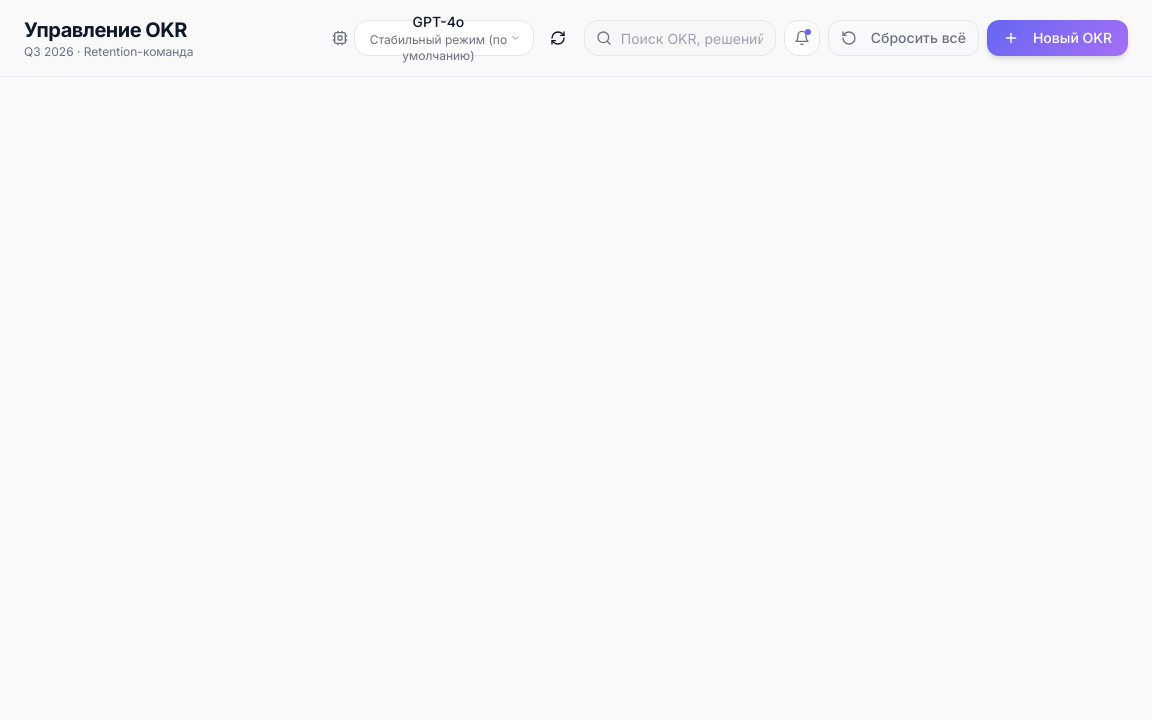
it: AppHeader — Reset all › открывает подтверждающий диалог и вызывает onResetAll только после подтверждения
Later steps or results of the test are not shown.
Click the button with aria-label "Сбросить все данные". click: {"x": 903, "y": 38}
box: [828,20,979,56]
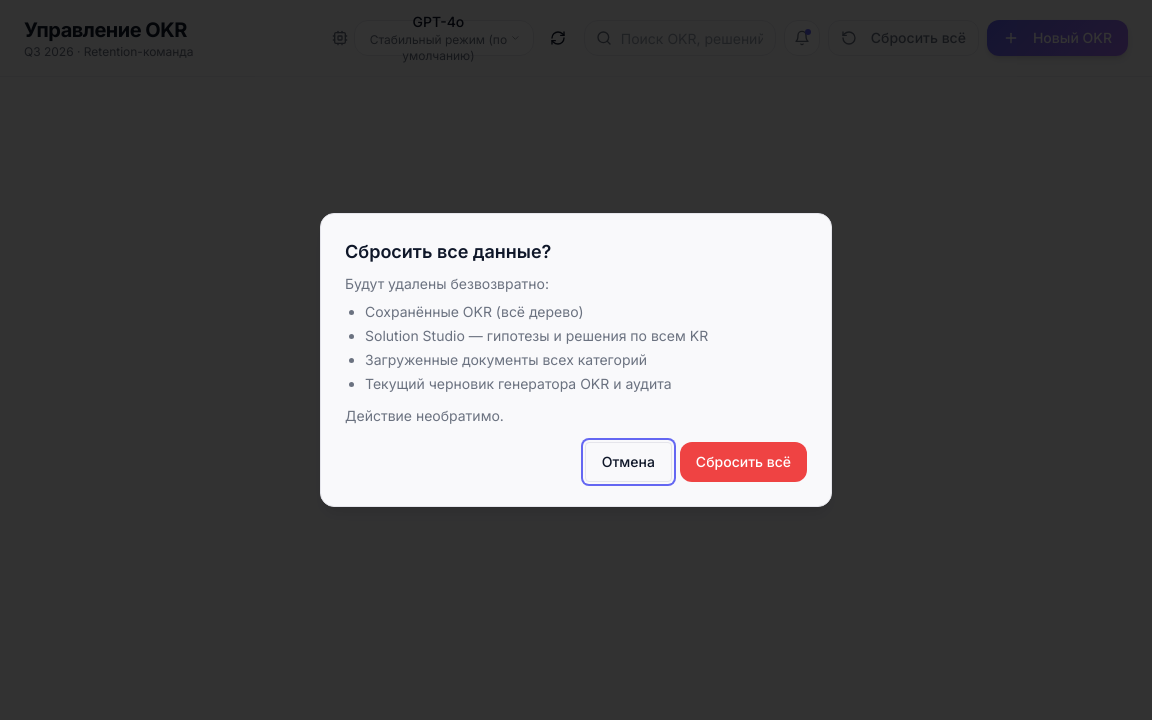
expect the list item "Сохранённые OKR (всё дерево)" is shown: met, box [365,303,584,320]
expect the list item "Solution Studio — гипотезы и решения по всем KR" is shown: met, box [365,327,708,344]
expect the list item "Загруженные документы всех категорий" is shown: met, box [365,351,647,368]
